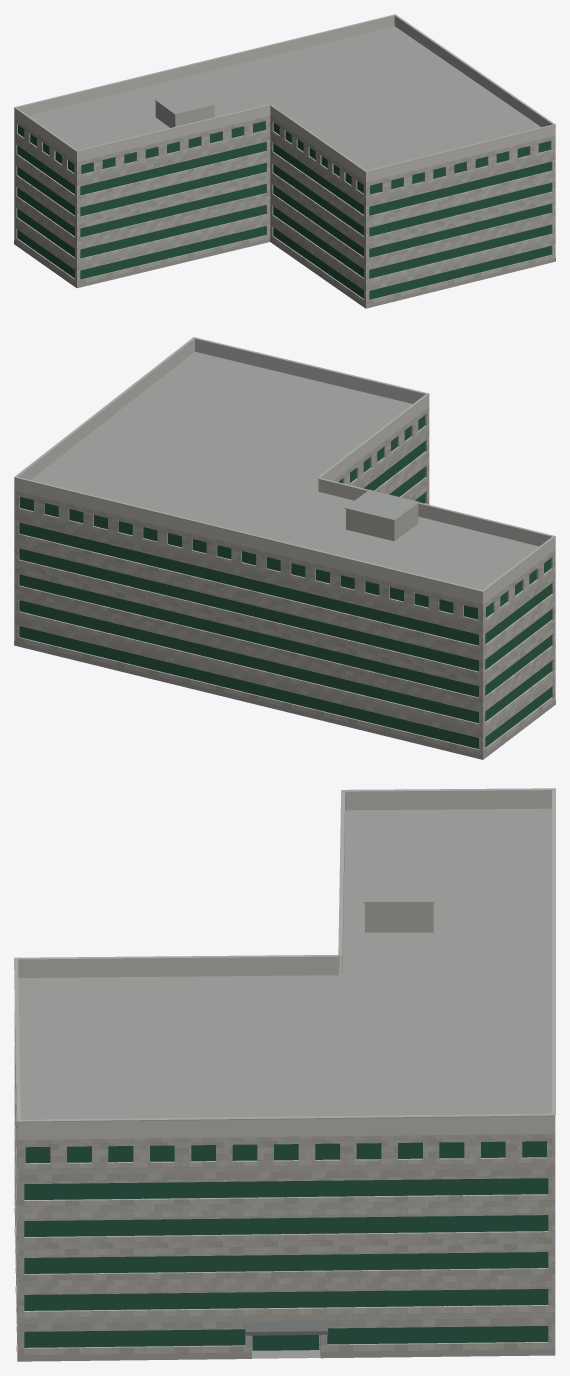
3 views of the same model, one above another, from view 1: azimuth 30°, elevation 25°; view 2: azimuth 150°, elevation 25°; view 3: azimuth 270°, elevation 25° (orthographic). The views are drawn at different scales.
Parts seen in each view (by area): view 1: medicineMain__wall, medicineMain__roof, medicineMain__glass, medicineMain__parapet, medicineMain__trim, medicineMain__frame, medicineMain__base; view 2: medicineMain__wall, medicineMain__roof, medicineMain__glass, medicineMain__parapet, medicineMain__trim, medicineMain__frame, medicineMain__base; view 3: medicineMain__roof, medicineMain__wall, medicineMain__glass, medicineMain__parapet, medicineMain__trim, medicineMain__base, medicineMain__frame, medicineMain__canopy.
Boxes of the visible parts, x1,y1,x2,y2 form: medicineMain__wall: [14, 116, 555, 308]; medicineMain__roof: [28, 26, 540, 170]; medicineMain__glass: [17, 121, 551, 299]; medicineMain__parapet: [14, 15, 555, 182]; medicineMain__trim: [14, 14, 555, 172]; medicineMain__frame: [23, 144, 541, 297]; medicineMain__base: [14, 238, 555, 308]; medicineMain__wall: [14, 407, 555, 759]; medicineMain__roof: [31, 351, 538, 589]; medicineMain__glass: [19, 415, 551, 748]; medicineMain__parapet: [14, 338, 555, 604]; medicineMain__trim: [14, 337, 555, 592]; medicineMain__frame: [31, 451, 545, 745]; medicineMain__base: [14, 641, 555, 759]; medicineMain__roof: [18, 808, 551, 1358]; medicineMain__wall: [14, 1008, 555, 1355]; medicineMain__glass: [24, 1141, 548, 1350]; medicineMain__parapet: [17, 790, 555, 1139]; medicineMain__trim: [14, 788, 555, 1122]; medicineMain__base: [14, 1208, 555, 1361]; medicineMain__frame: [44, 1178, 528, 1350]; medicineMain__canopy: [245, 1320, 328, 1335].
Bounding box in the file's own units: 70.62 × 24.4 × 47.45.
9 materials, 1 textured.
